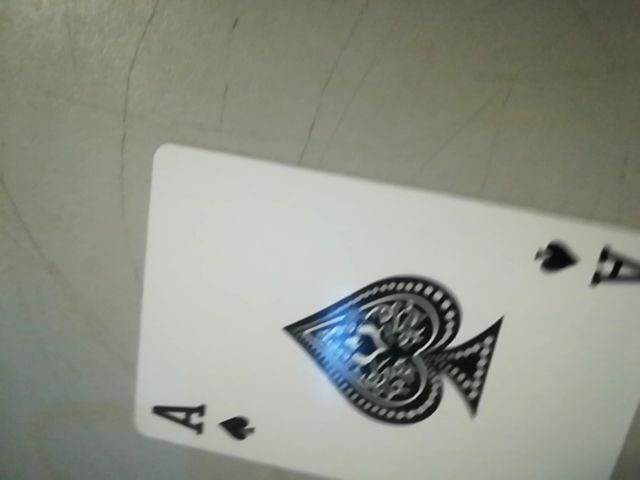ht a: (132, 395, 279, 456)
